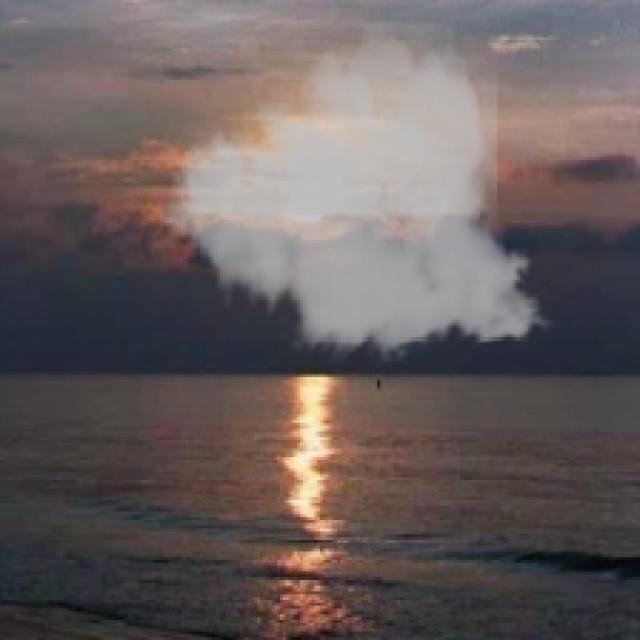Smoke: (148, 23, 560, 366)
